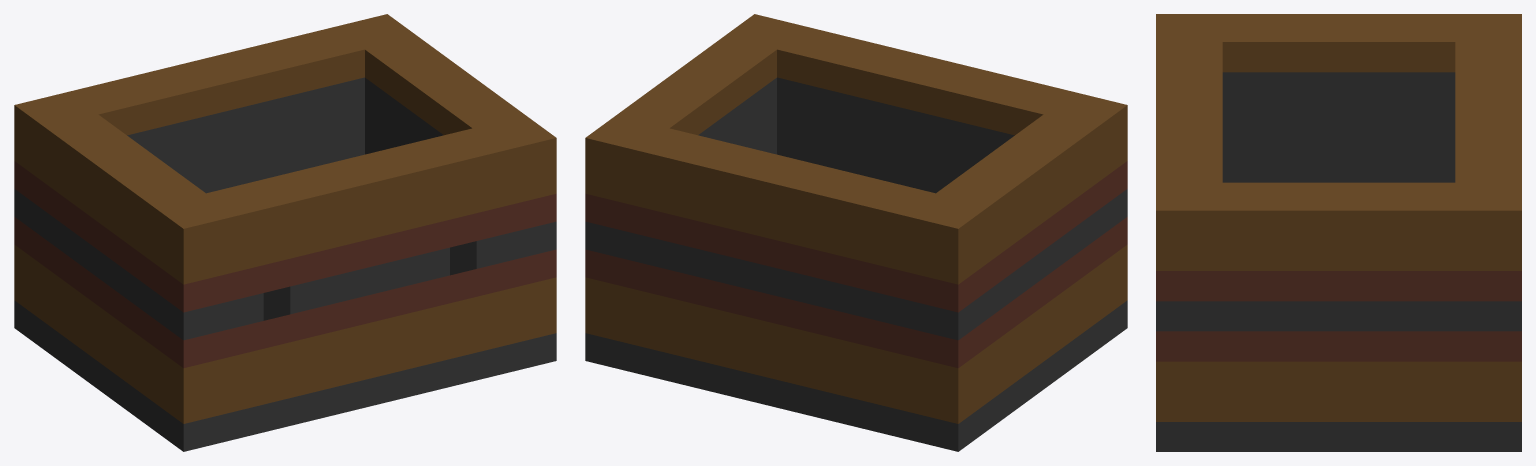
The model's file is kiste.obj.
3 views of the same model, side by side, from view 1: azimuth 30°, elevation 25°; view 2: azimuth 150°, elevation 25°; view 3: azimuth 270°, elevation 25° (orthographic). The views are drawn at different scales.
Size of the model in its own units: 1.4 by 0.8 by 1.1.
Materials: 1 (1 with a texture image).
